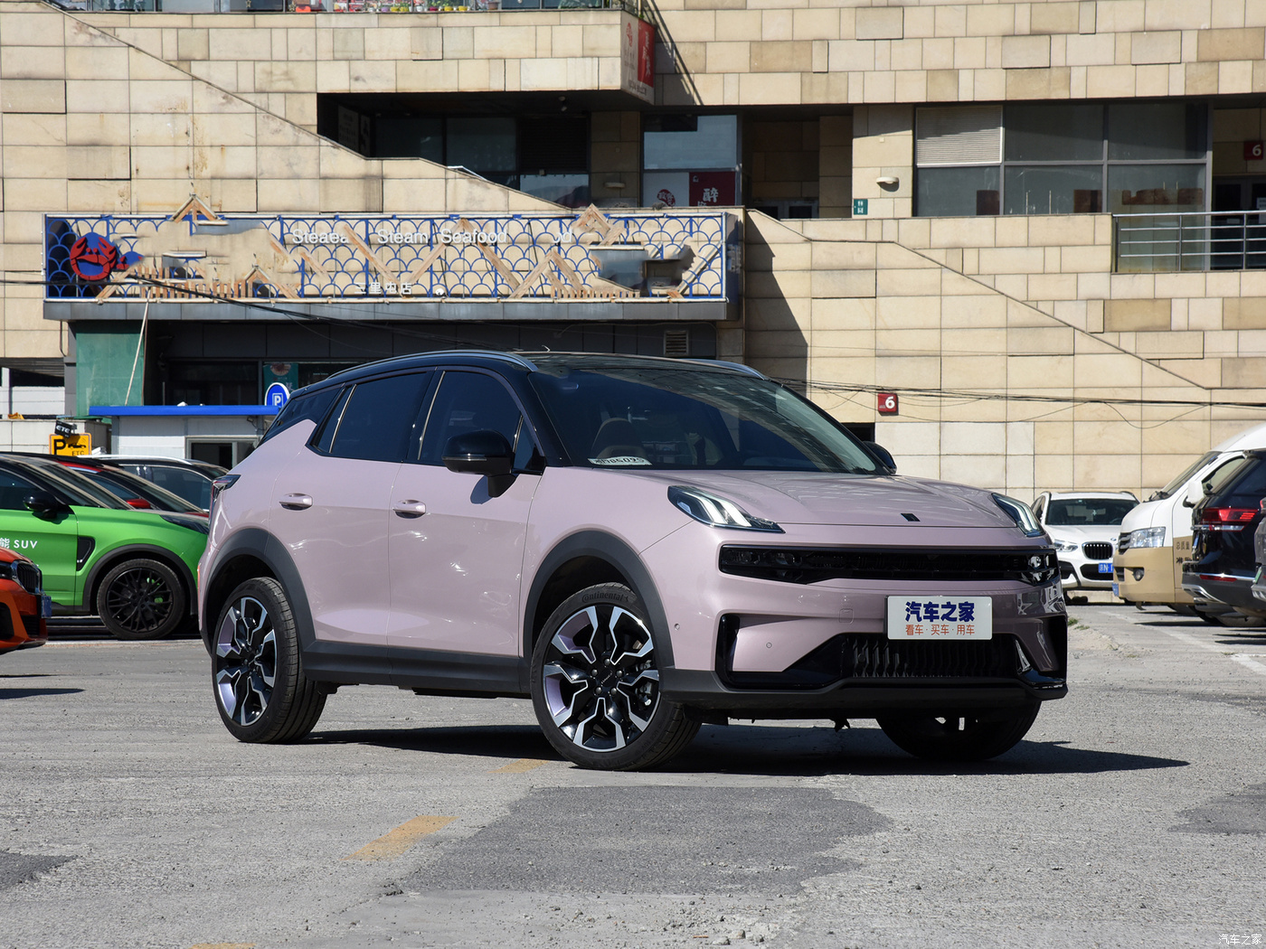LINK&CO: (901, 513, 920, 521)
